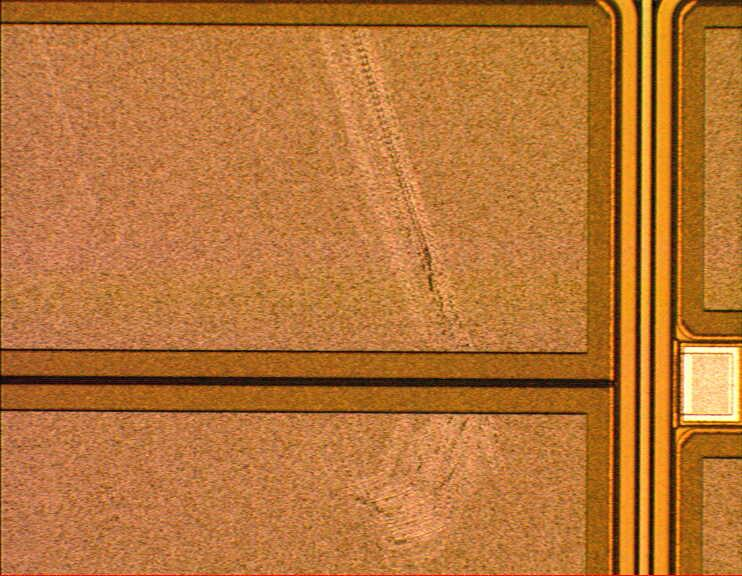SCRATCH: (307, 1, 509, 567)
